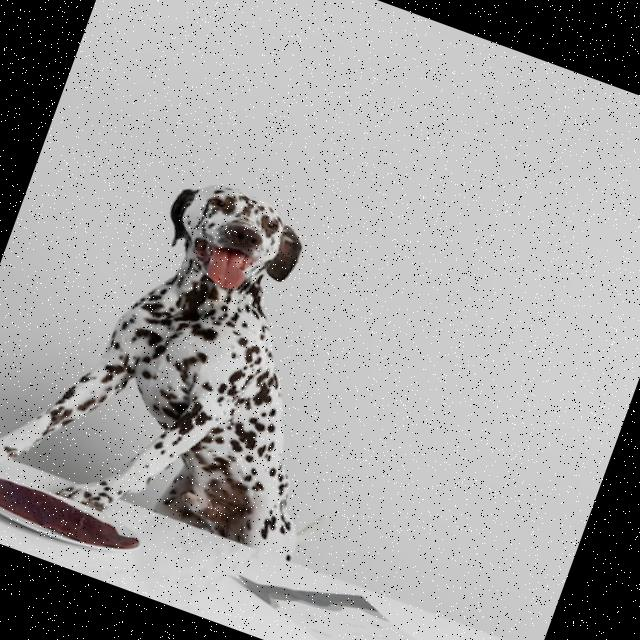Dog: (0, 127, 421, 589)
